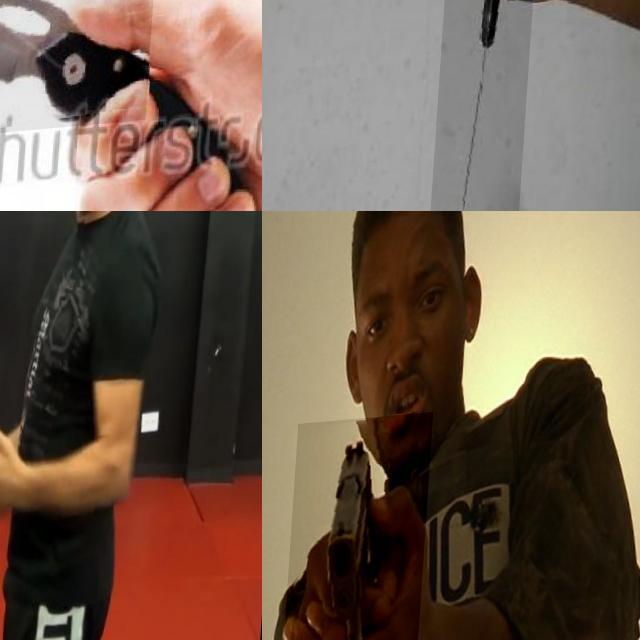-: (0, 0, 159, 147), (431, 0, 541, 211), (0, 498, 53, 561)
gun-knife-thesis - v11 Yolov5 augmented: (288, 418, 438, 640)
